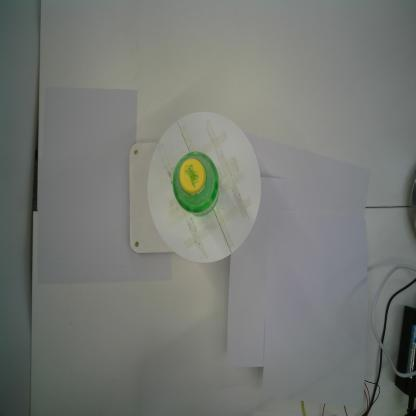Drink: (171, 150, 220, 218)
